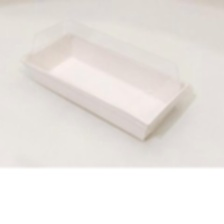plastic_box: (13, 13, 198, 145)
